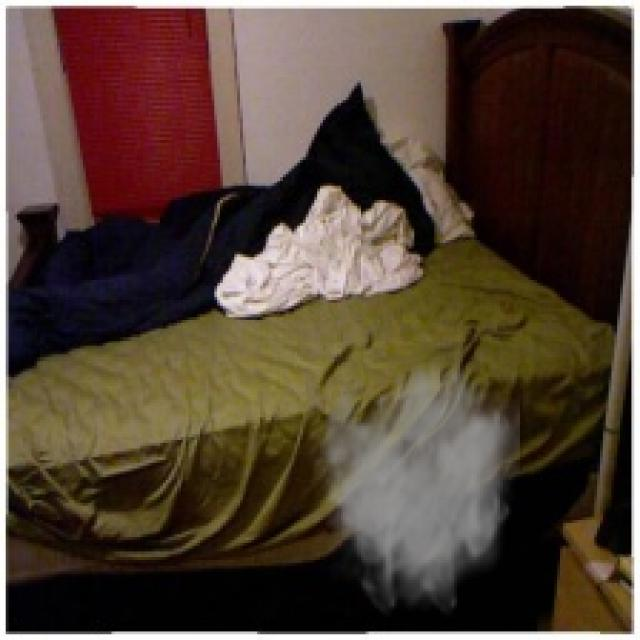smoke: (306, 351, 520, 620)
